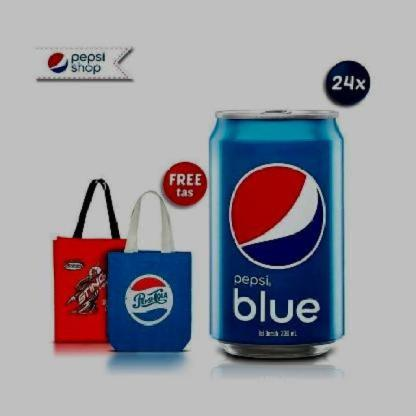alumunium_can: (207, 107, 345, 360)
